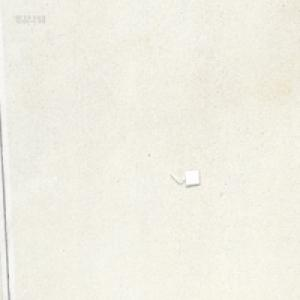LuggageTag: (168, 168, 200, 185)
